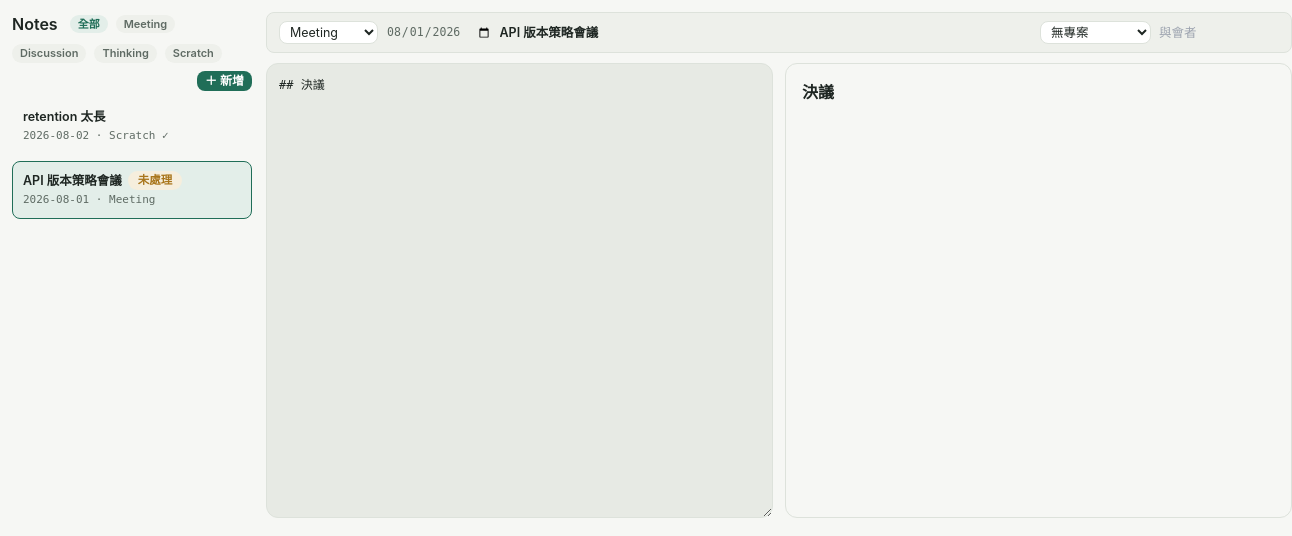
Test: Notes › shows a retrying message when the save fails
In the text box named "內文": (520, 290) [266,63,773,518], type "x"
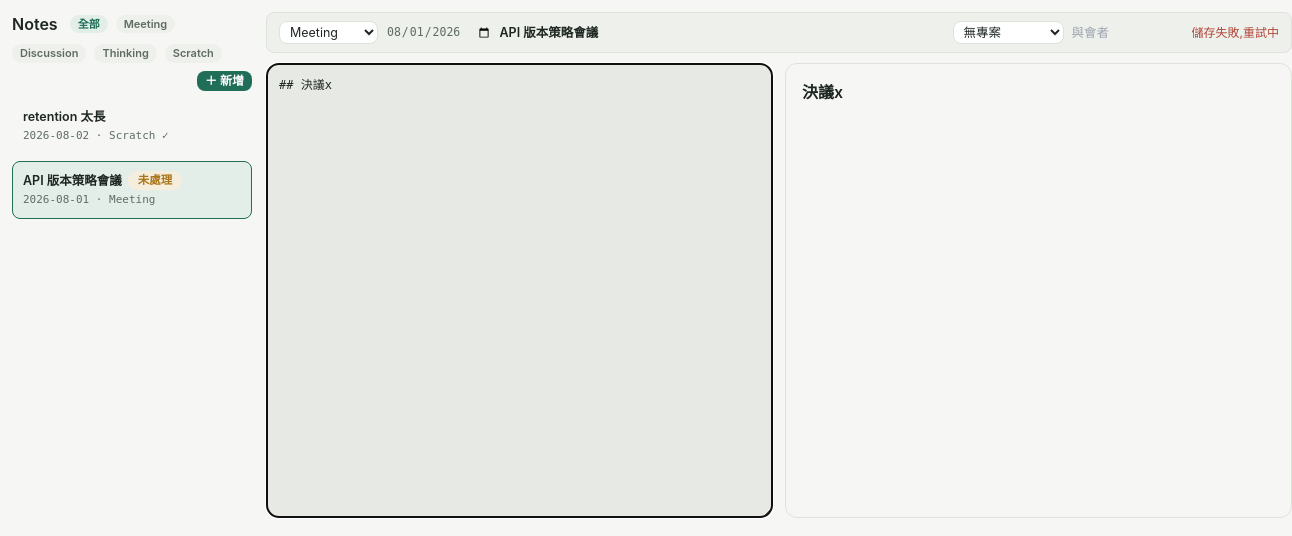
Now the text "儲存失敗,重試中" is shown, box [1192,24,1279,40]
